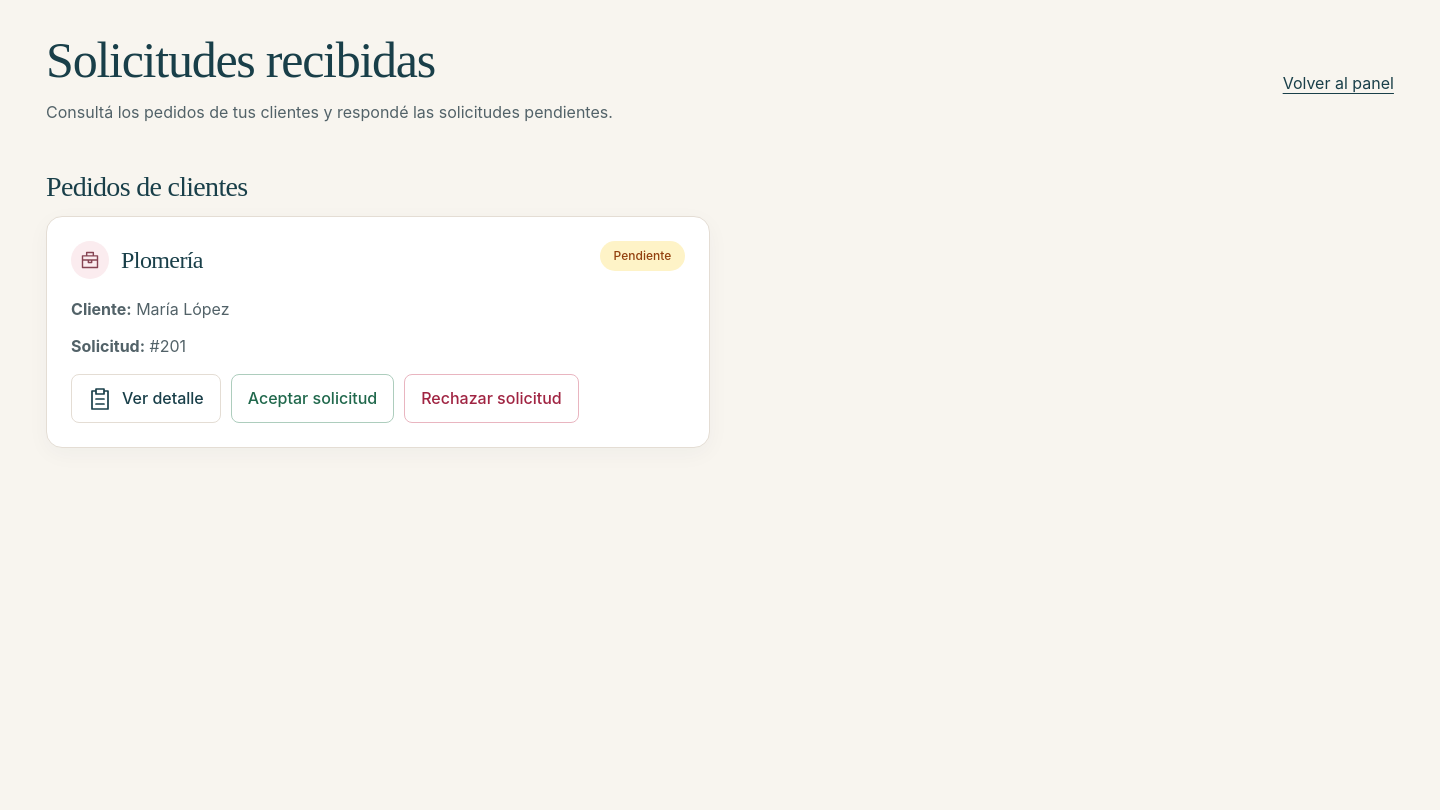
Test: F-13 - Pantalla de solicitudes del prestador › acepta y actualiza el estado
Click the button "Aceptar solicitud" at (312, 399), box [231, 374, 394, 423]
(page scrolled)
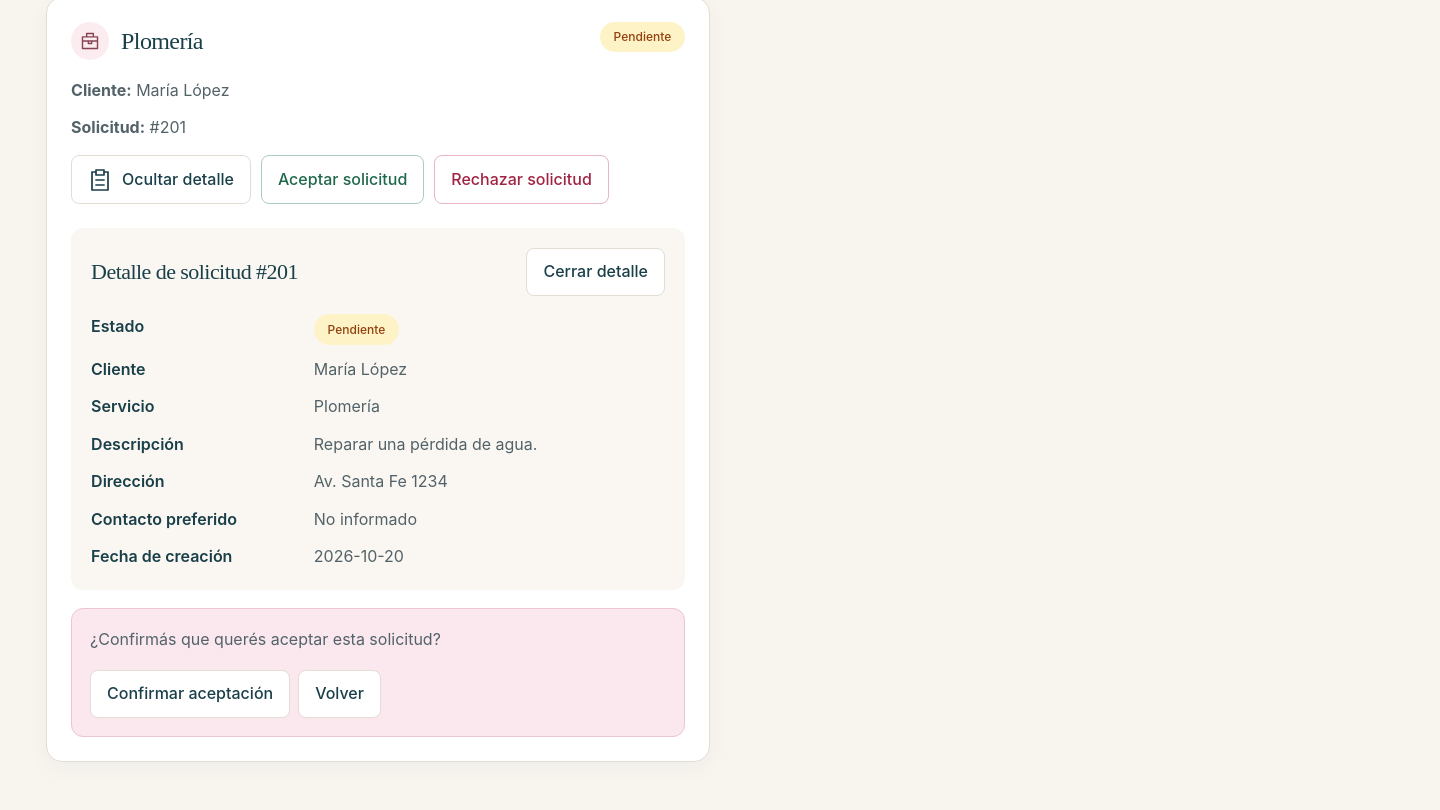
Click the button "Confirmar aceptación" at (190, 694), box [90, 670, 290, 718]
(page scrolled)
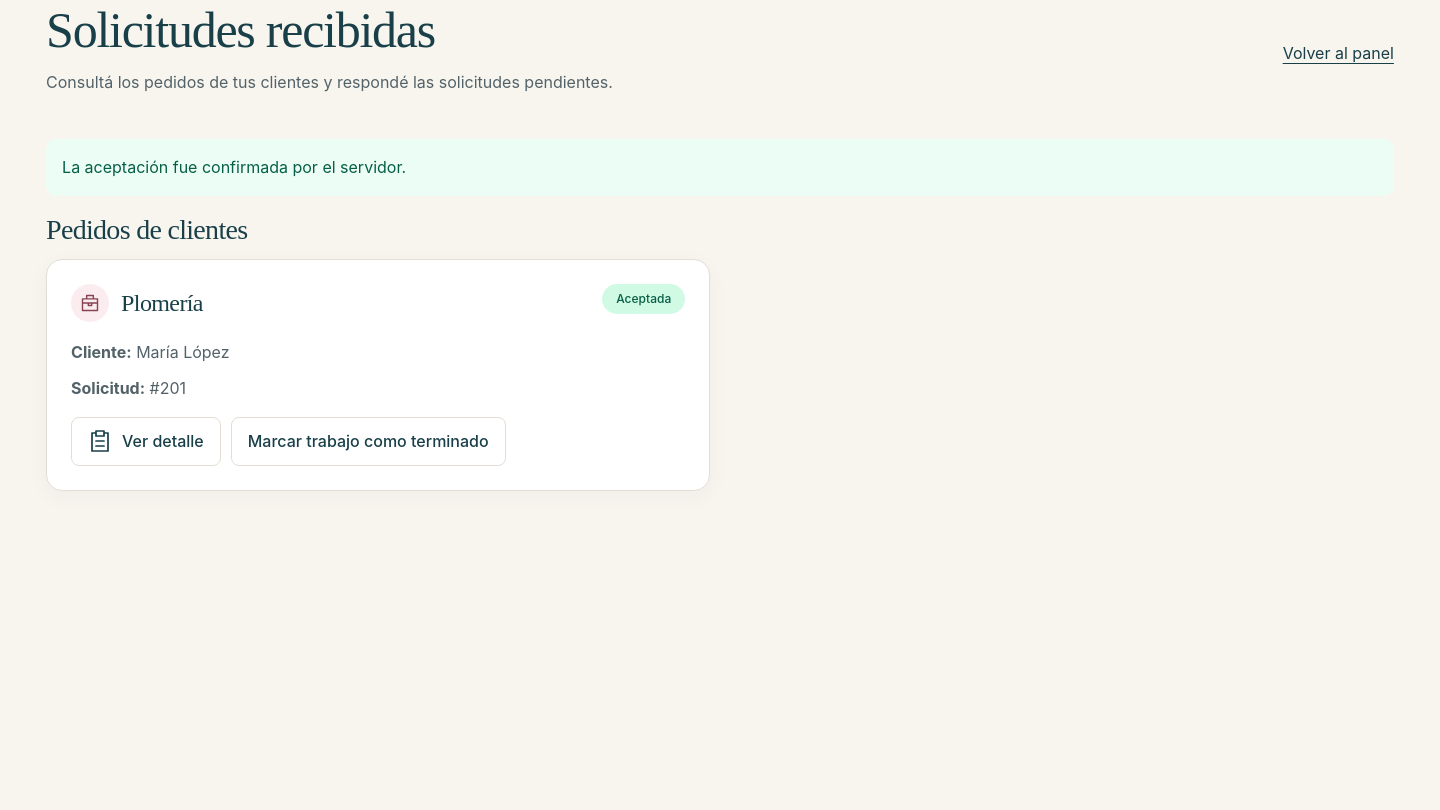
Check: the text "Aceptada" is shown, box [602, 284, 685, 314]
Check: the button "Aceptar solicitud" is gone
